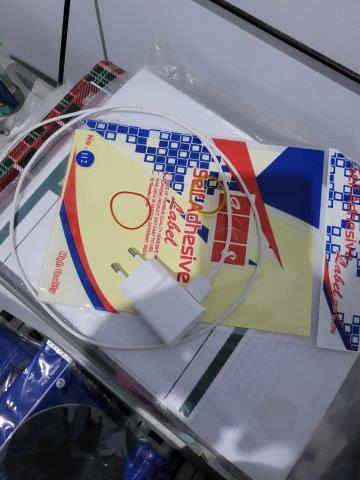karet: (109, 191, 152, 230), (189, 176, 229, 216)
